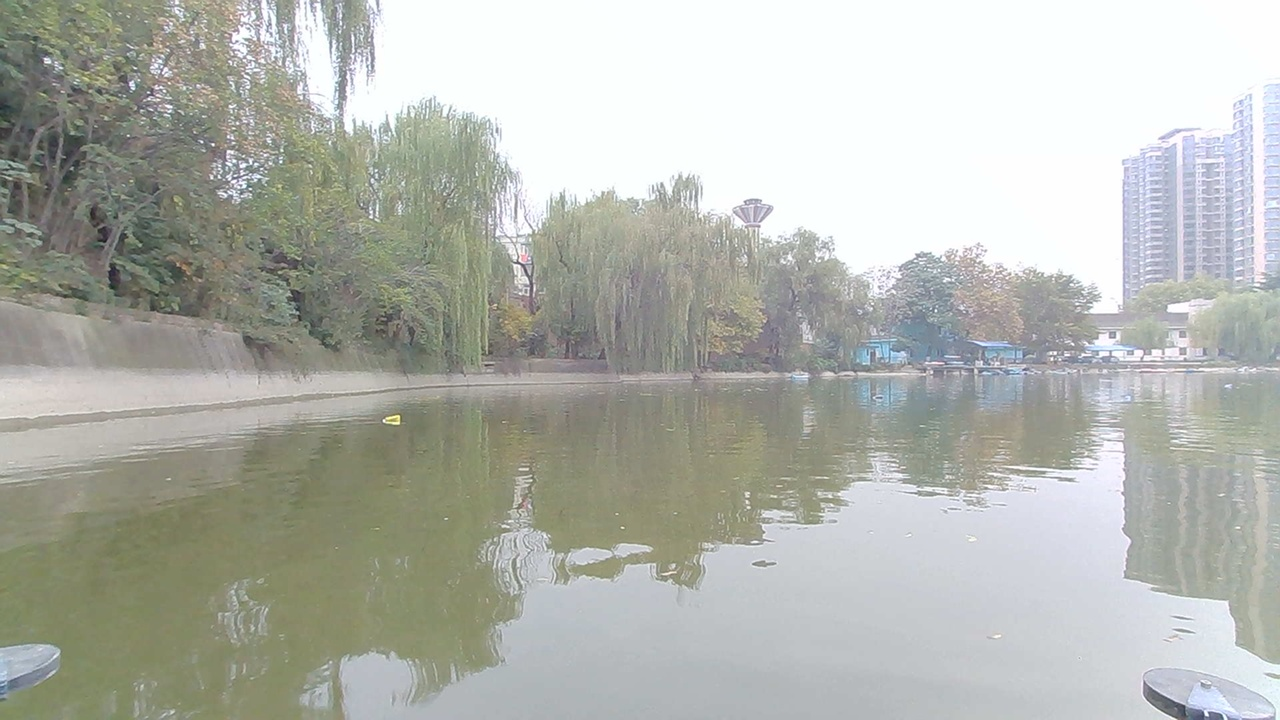bottle: (377, 409, 411, 432), (854, 389, 883, 404)
